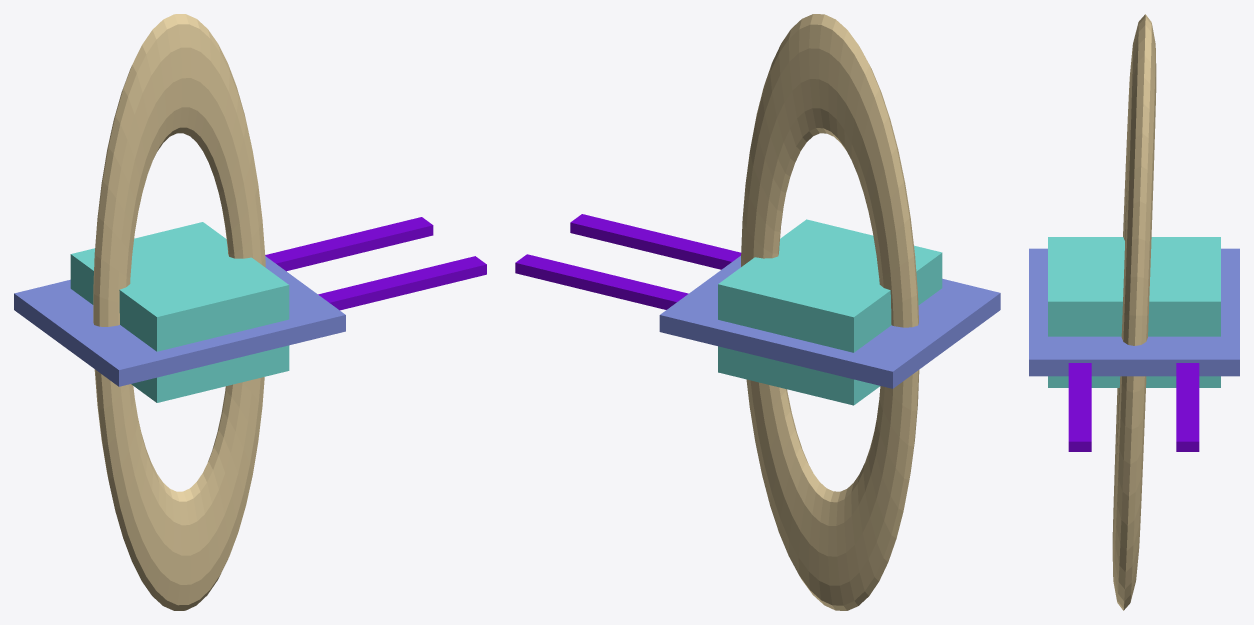
The model's file is drone.glb.
3 renders of one model, left to right at view 1: azimuth 30°, elevation 25°; view 2: azimuth 150°, elevation 25°; view 3: azimuth 270°, elevation 25°, orthographic. The views are drawn at different scales.
Parts seen in each view (by area): view 1: Torus, Cube.001, Cube, Cube.002, Cube.003; view 2: Torus, Cube.001, Cube, Cube.002, Cube.003; view 3: Cube.001, Torus, Cube, Cube.002, Cube.003.
Part boxes in pixels (x1=…): Torus: x1=93, y1=14, x2=265, y2=610; Cube.001: x1=70, y1=222, x2=289, y2=402; Cube: x1=14, y1=256, x2=345, y2=386; Cube.002: x1=265, y1=217, x2=433, y2=271; Cube.003: x1=318, y1=256, x2=486, y2=310; Torus: x1=741, y1=14, x2=919, y2=610; Cube.001: x1=718, y1=219, x2=942, y2=405; Cube: x1=659, y1=256, x2=1000, y2=388; Cube.002: x1=515, y1=254, x2=688, y2=309; Cube.003: x1=570, y1=214, x2=741, y2=269; Cube.001: x1=1048, y1=237, x2=1220, y2=387; Torus: x1=1112, y1=14, x2=1156, y2=610; Cube: x1=1029, y1=248, x2=1239, y2=376; Cube.002: x1=1176, y1=363, x2=1199, y2=451; Cube.003: x1=1068, y1=363, x2=1091, y2=451.
Size of the model in its own units: 5.86 by 8.51 by 2.75.
